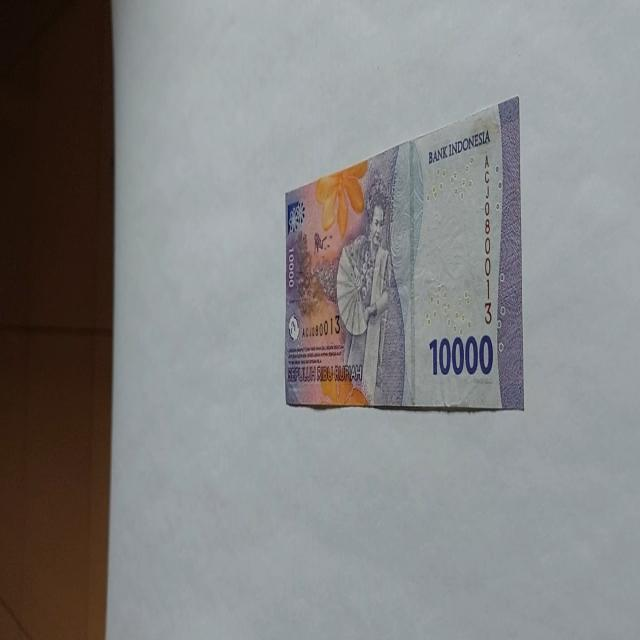sepuluh ribu rupiah: (283, 95, 524, 412), (426, 127, 492, 165)
